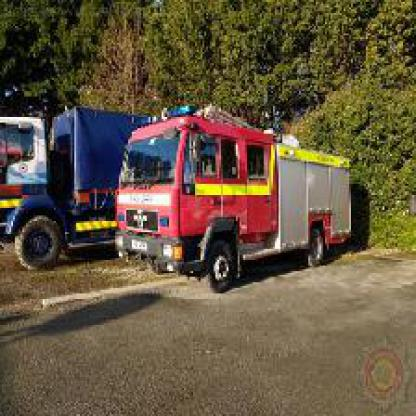emergency: (112, 100, 356, 297)
not_emergency: (0, 102, 158, 274)
